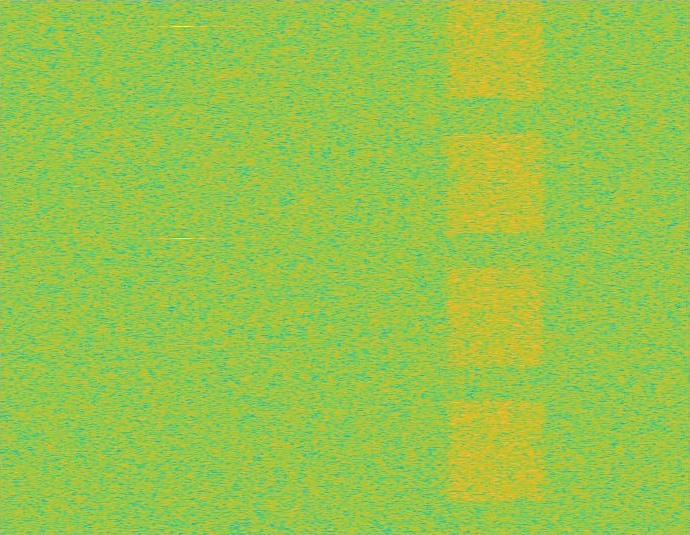5G: (445, 0, 548, 534)
Radar: (176, 0, 190, 534)
